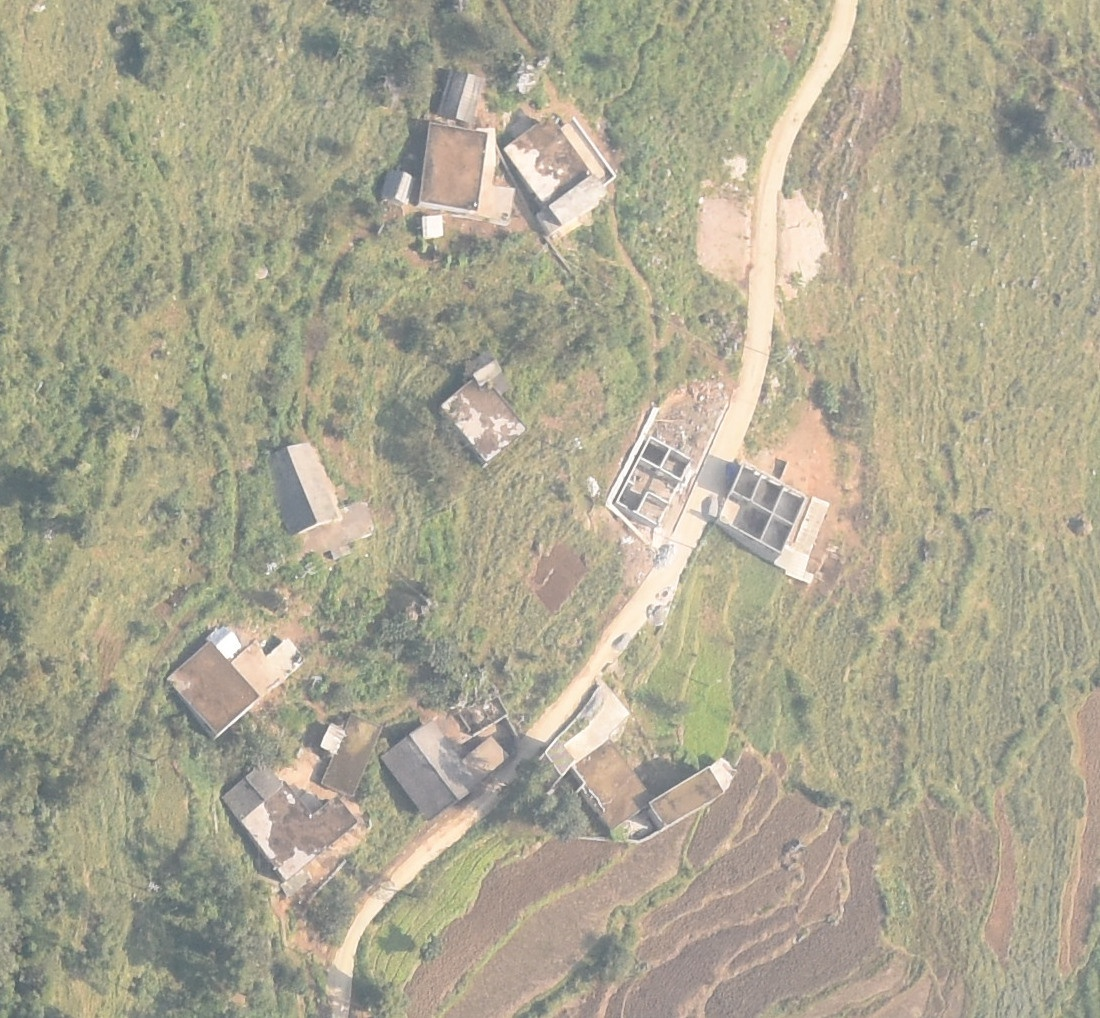building: (221, 769, 359, 883), (508, 118, 617, 233), (379, 721, 478, 820), (422, 123, 514, 224), (168, 640, 259, 739), (717, 465, 808, 564), (546, 685, 630, 777), (441, 378, 529, 463), (572, 738, 655, 827), (265, 443, 342, 535), (614, 437, 685, 524), (319, 714, 383, 798), (651, 764, 725, 828), (233, 635, 308, 698), (295, 503, 377, 553), (436, 70, 484, 123), (460, 736, 511, 783), (381, 168, 413, 205), (419, 213, 445, 238)
cable-tower: (782, 345, 801, 364)
